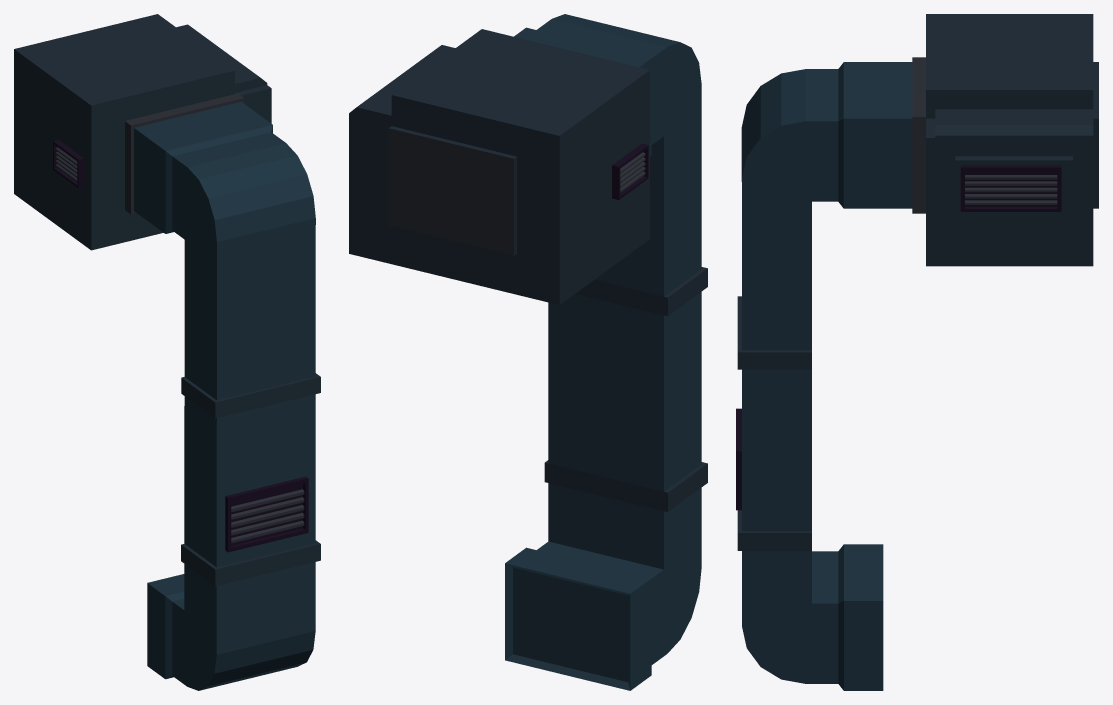
File: Building_VentShaft_VertRoof.fbx
3 views of the same model, side by side, from view 1: azimuth 30°, elevation 25°; view 2: azimuth 150°, elevation 25°; view 3: azimuth 270°, elevation 25° (orthographic). The views are drawn at different scales.
Visible parts, largest first — view 1: Vent Base.001; view 2: Vent Base.001; view 3: Vent Base.001.
Boxes of the visible parts, x1,y1,x2,y2 form: Vent Base.001: [14, 14, 320, 690]; Vent Base.001: [349, 14, 707, 690]; Vent Base.001: [736, 14, 1098, 690].
Size of the model in its own units: 185 by 494 by 270.
